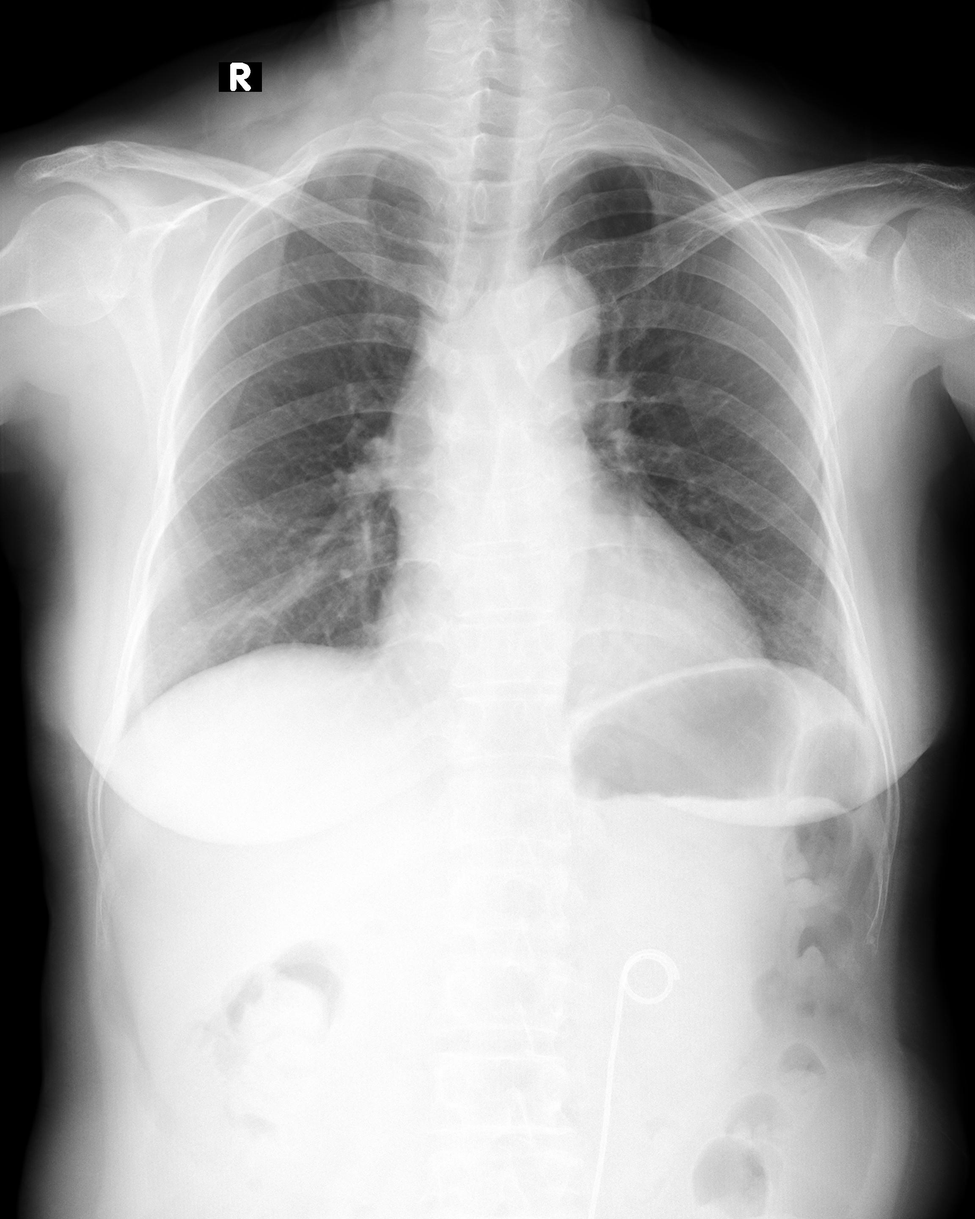Aortic enlargement: (493, 264, 603, 383)
Cardiomegaly: (378, 571, 763, 689)
Pleural thickening: (317, 144, 425, 168)
